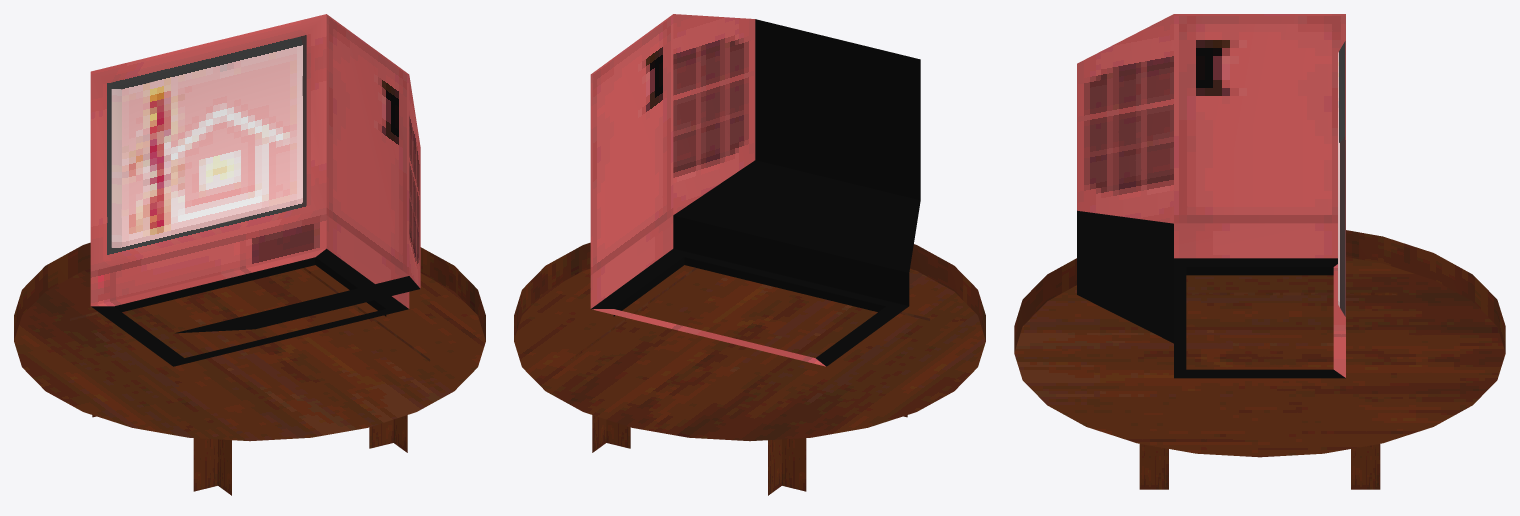
Rendered from ps2_save-icons_kazokukeikaku-kokoronokizuna.glb.
3 views of the same model, side by side, from view 1: azimuth 30°, elevation 25°; view 2: azimuth 150°, elevation 25°; view 3: azimuth 270°, elevation 25° (orthographic). The views are drawn at different scales.
Visible parts, largest first — view 1: ICON.ICO; view 2: ICON.ICO; view 3: ICON.ICO.
Boxes of the visible parts, bbox=[...] form: ICON.ICO: bbox=[14, 14, 485, 495]; ICON.ICO: bbox=[514, 14, 985, 495]; ICON.ICO: bbox=[1014, 14, 1505, 489].
Size of the model in its own units: 2.68 by 2.27 by 2.68.
1 material, 1 textured.
